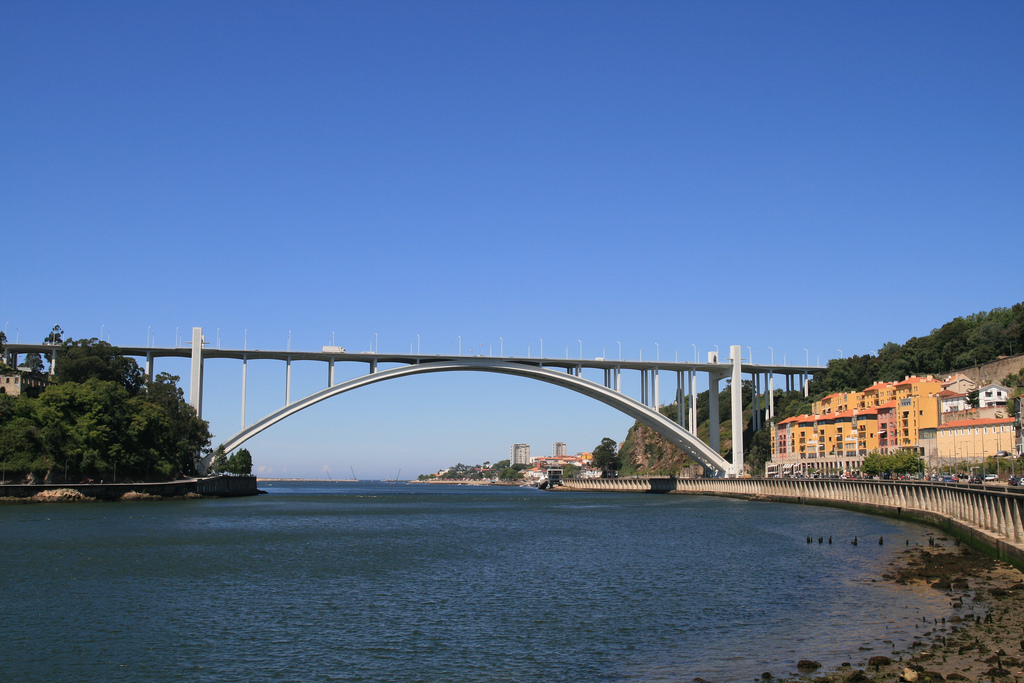arrabida: (102, 325, 831, 478)
